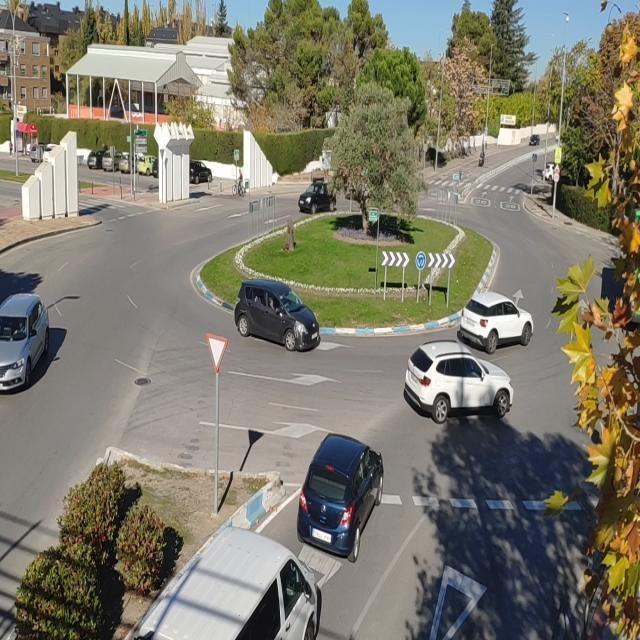Car: (297, 433, 384, 563), (406, 341, 514, 424), (234, 279, 320, 351), (0, 293, 50, 391), (458, 291, 534, 353), (298, 182, 337, 214), (190, 160, 213, 185), (530, 134, 540, 146)
Cycle: (230, 178, 247, 198)
Van: (132, 526, 322, 640)
